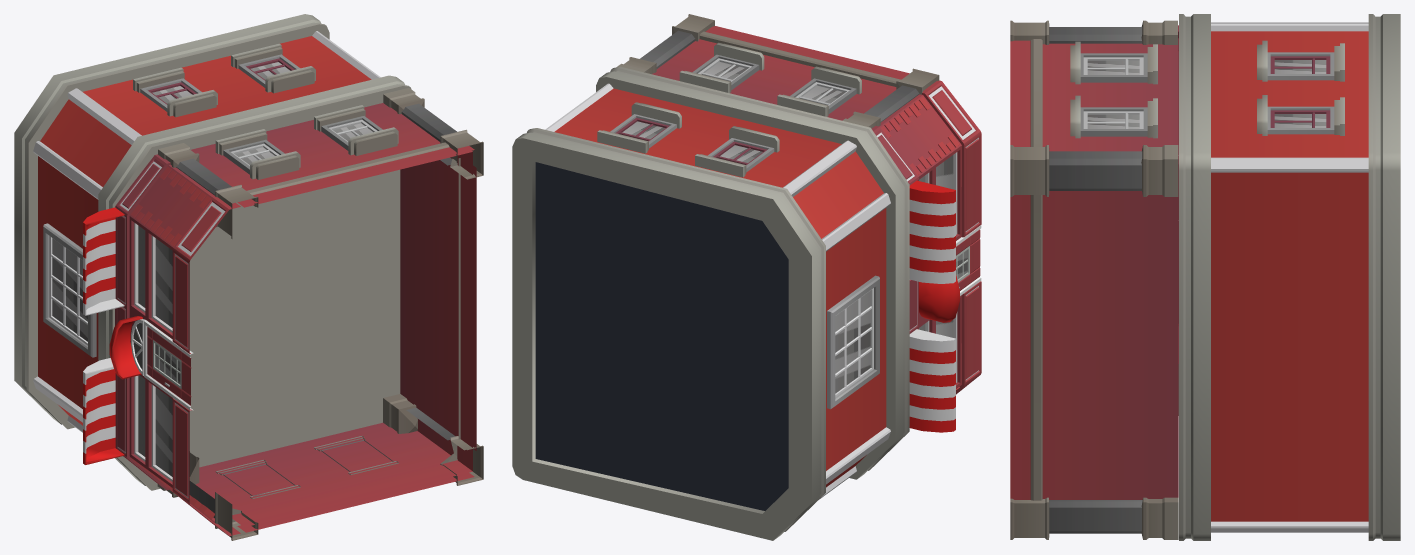
File: Building_3_2_G.glb
3 views of the same model, side by side, from view 1: azimuth 30°, elevation 25°; view 2: azimuth 150°, elevation 25°; view 3: azimuth 270°, elevation 25° (orthographic). The views are drawn at different scales.
Parts seen in each view (by area): view 1: Building 3_2_G; view 2: Building 3_2_G; view 3: Building 3_2_G.
Boxes of the visible parts, left/top/right/bottom form: Building 3_2_G: left=14, top=14, right=483, bottom=540; Building 3_2_G: left=512, top=14, right=981, bottom=540; Building 3_2_G: left=1010, top=14, right=1400, bottom=540.
Size of the model in its own units: 8.2 by 8.16 by 7.26.
4 materials, 4 textured.
